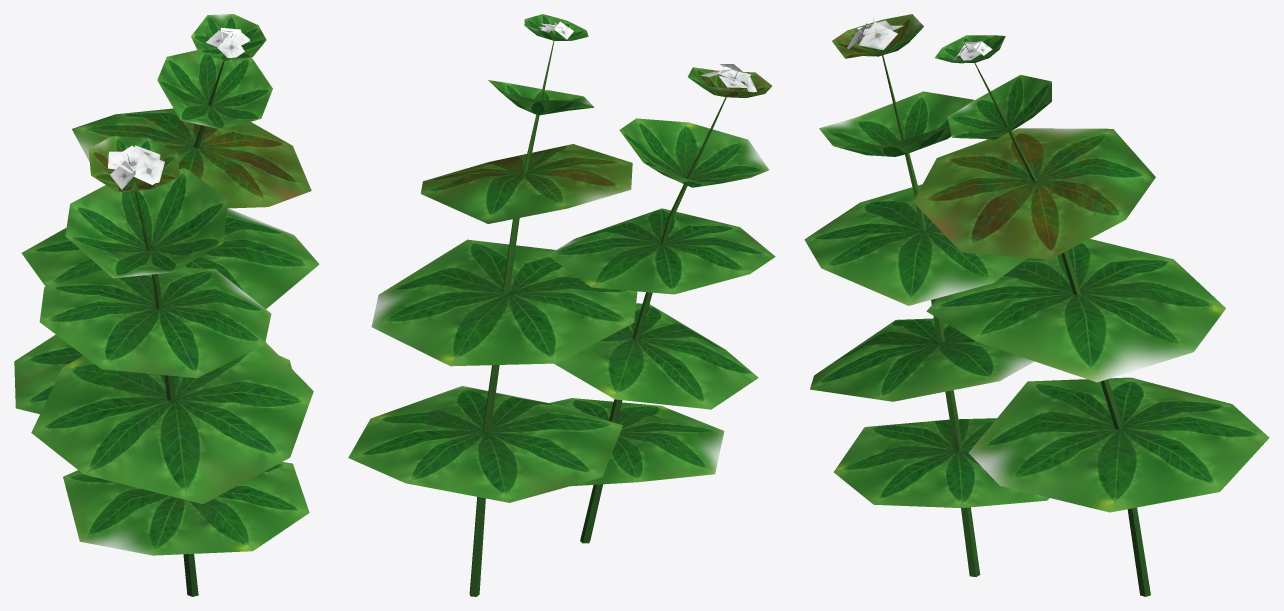
File: Sweet_Woodruff_2_Stem.FBX
The picture shows the model from 3 angles, left to right: view 1: azimuth 30°, elevation 25°; view 2: azimuth 150°, elevation 25°; view 3: azimuth 270°, elevation 25°; orthographic projection. The views are drawn at different scales.
Parts seen in each view (by area): view 1: Sweet_Woodruff_2_Stem; view 2: Sweet_Woodruff_2_Stem; view 3: Sweet_Woodruff_2_Stem.
Boxes of the visible parts, x1,y1,x2,y2 form: Sweet_Woodruff_2_Stem: (14,14,319,596); Sweet_Woodruff_2_Stem: (348,14,775,596); Sweet_Woodruff_2_Stem: (804,14,1269,596).
Bounding box in the file's own units: 74.5 × 121 × 91.66.
